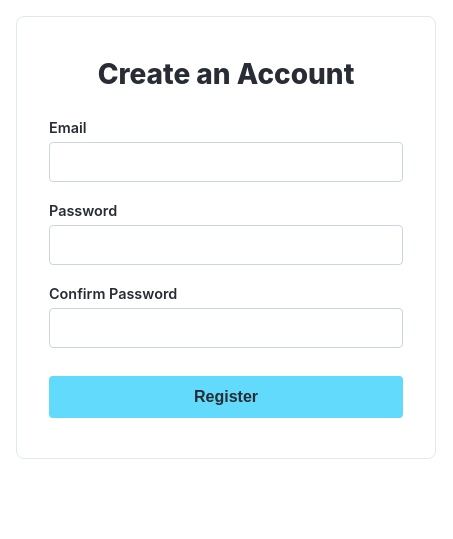
RegisterPage › integration: API submission › displays generic error message when registration fails without specific error
In the field labelled "Email": (226, 162) [49,142,403,182], type "user@example.com"
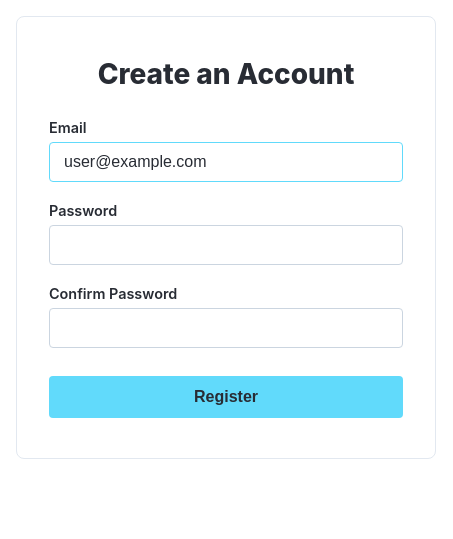
In the password field labelled "Password": (226, 245) [49,225,403,265], type "password123"
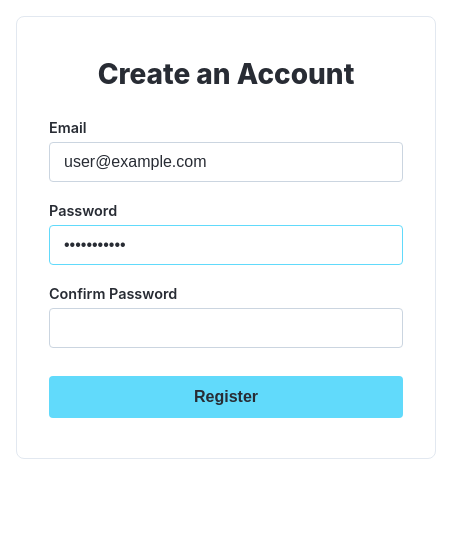
In the password field labelled "Confirm Password": (226, 328) [49,308,403,348], type "password123"
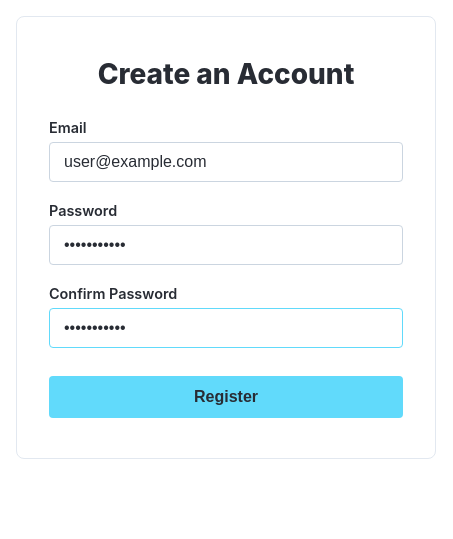
Click the button "Register": (226, 397) [49,376,403,418]
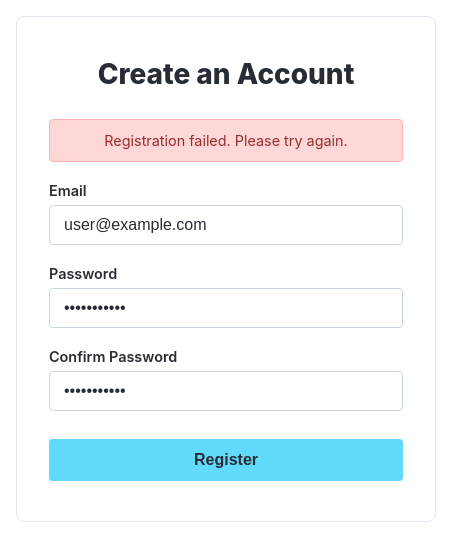
Result: the text "Registration failed. Please try again." is shown at [49,119,403,162]
